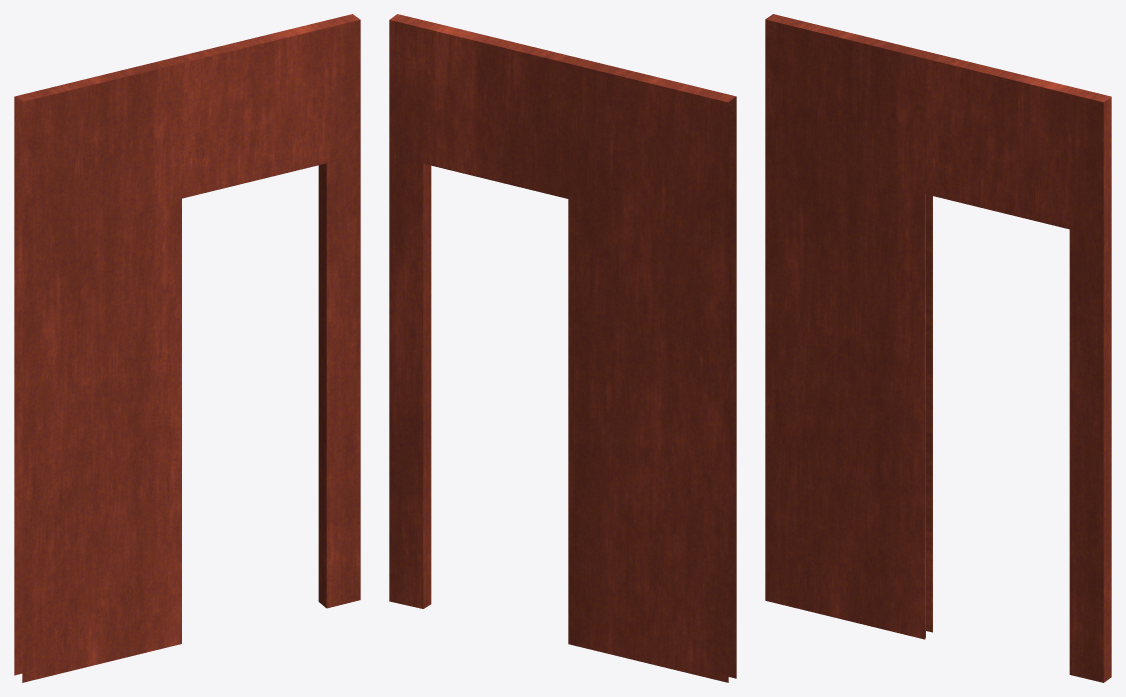
Rendered from SM_Office_Wall.fbx.
3 renders of one model, left to right at view 1: azimuth 30°, elevation 25°; view 2: azimuth 150°, elevation 25°; view 3: azimuth 330°, elevation 25°, orthographic.
Parts seen in each view (by area): view 1: SM_Office_Wall; view 2: SM_Office_Wall; view 3: SM_Office_Wall.
Boxes of the visible parts, box(x1,y1,x2,y2) form: SM_Office_Wall: box(14, 14, 360, 682); SM_Office_Wall: box(389, 14, 736, 682); SM_Office_Wall: box(765, 14, 1111, 682).
Size of the model in its own units: 174 by 7.09 by 285.
1 material, 1 textured.
